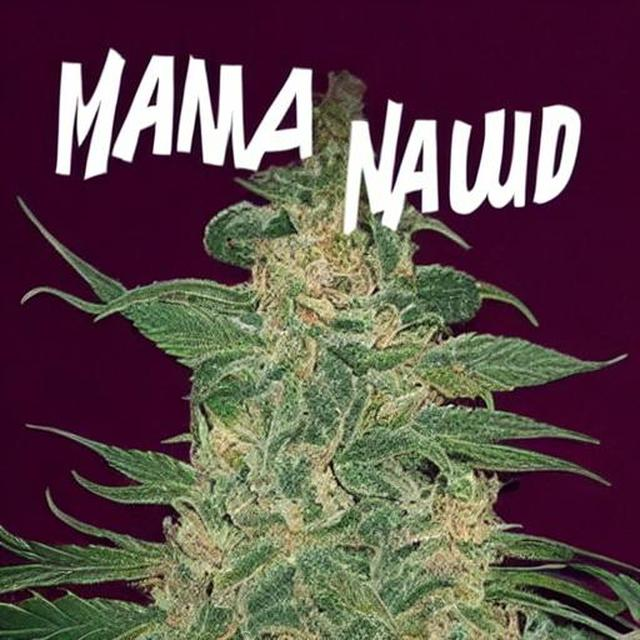Marijuana Joint: (14, 67, 640, 640)
